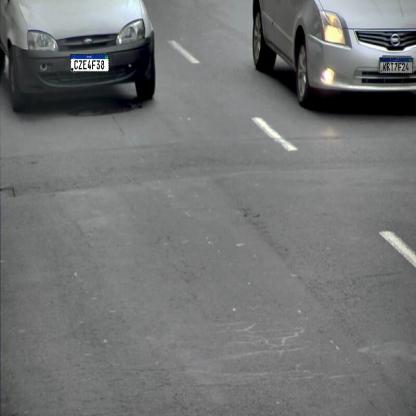PlacaM: (70, 54, 109, 72), (379, 58, 413, 74)
